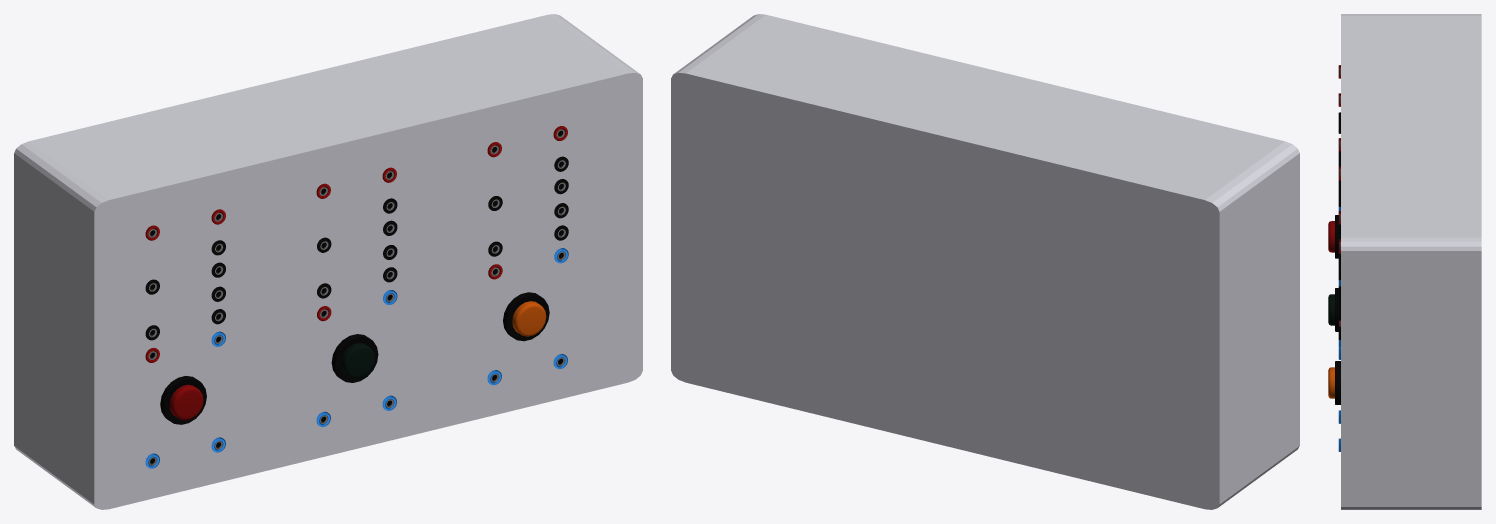
Rendered from deska.FBX.
3 views of the same model, side by side, from view 1: azimuth 30°, elevation 25°; view 2: azimuth 150°, elevation 25°; view 3: azimuth 270°, elevation 25° (orthographic). The views are drawn at different scales.
Parts seen in each view (by area): view 1: Cube, Object001, Object002, Object003; view 2: Cube; view 3: Cube, Object003, Object001, Object002.
Boxes of the visible parts, x1,y1,x2,y2 form: Cube: [14, 14, 642, 509]; Object001: [512, 301, 546, 336]; Object002: [341, 343, 374, 378]; Object003: [169, 384, 203, 420]; Cube: [671, 14, 1299, 509]; Cube: [1335, 14, 1481, 509]; Object003: [1328, 221, 1334, 252]; Object001: [1328, 367, 1334, 398]; Object002: [1328, 294, 1334, 325].
Size of the model in its own units: 16.47 by 8.87 by 4.56.
